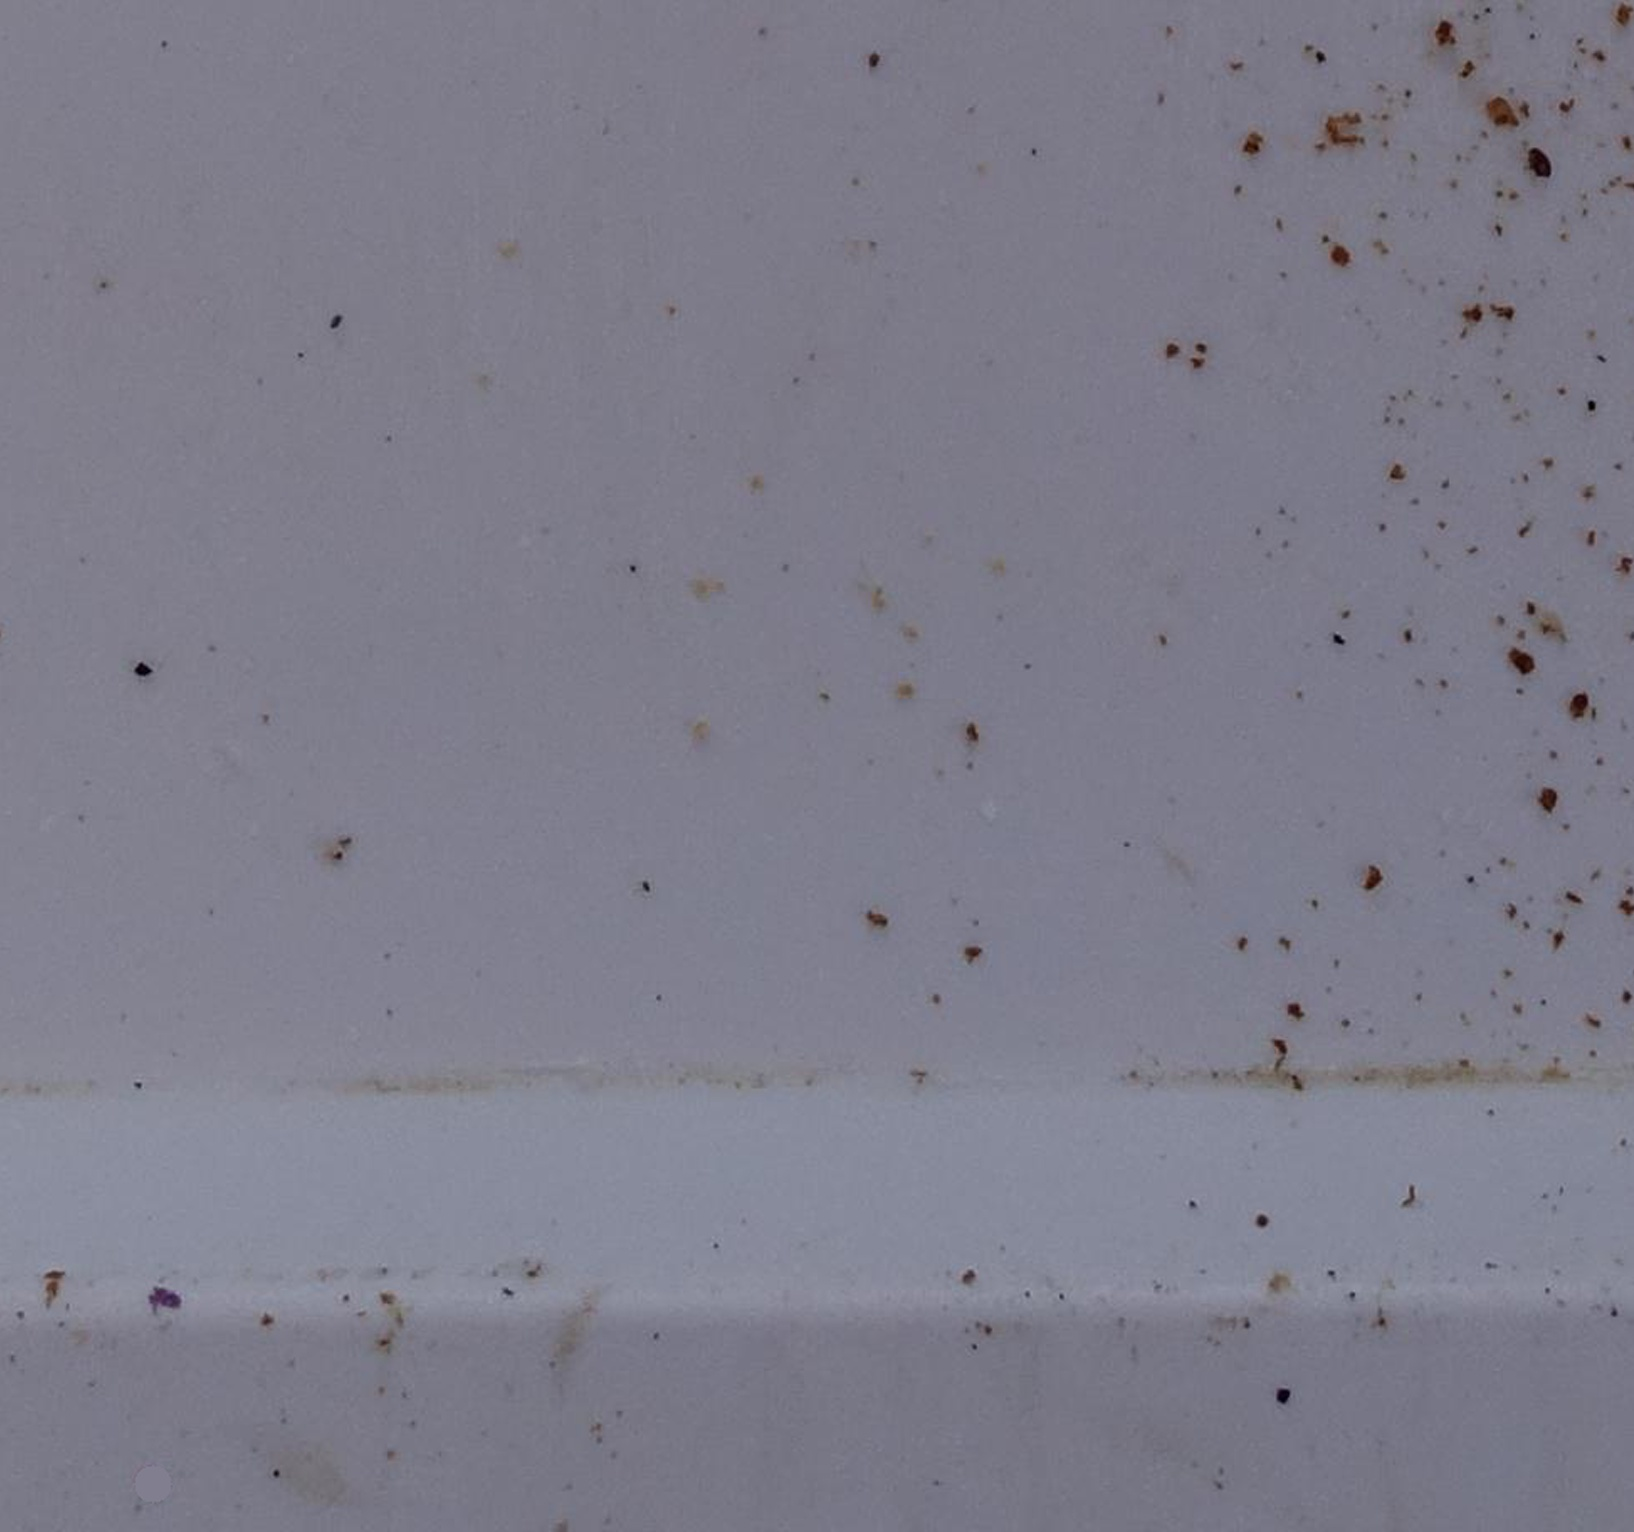Varroa: (1526, 145, 1551, 170)
